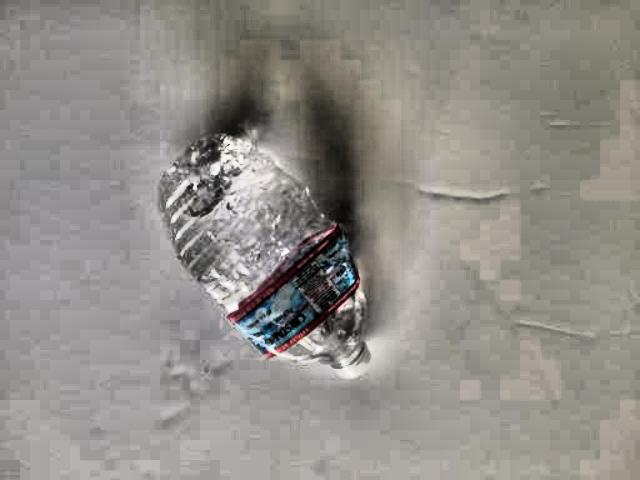Bottles: (136, 123, 387, 401)
